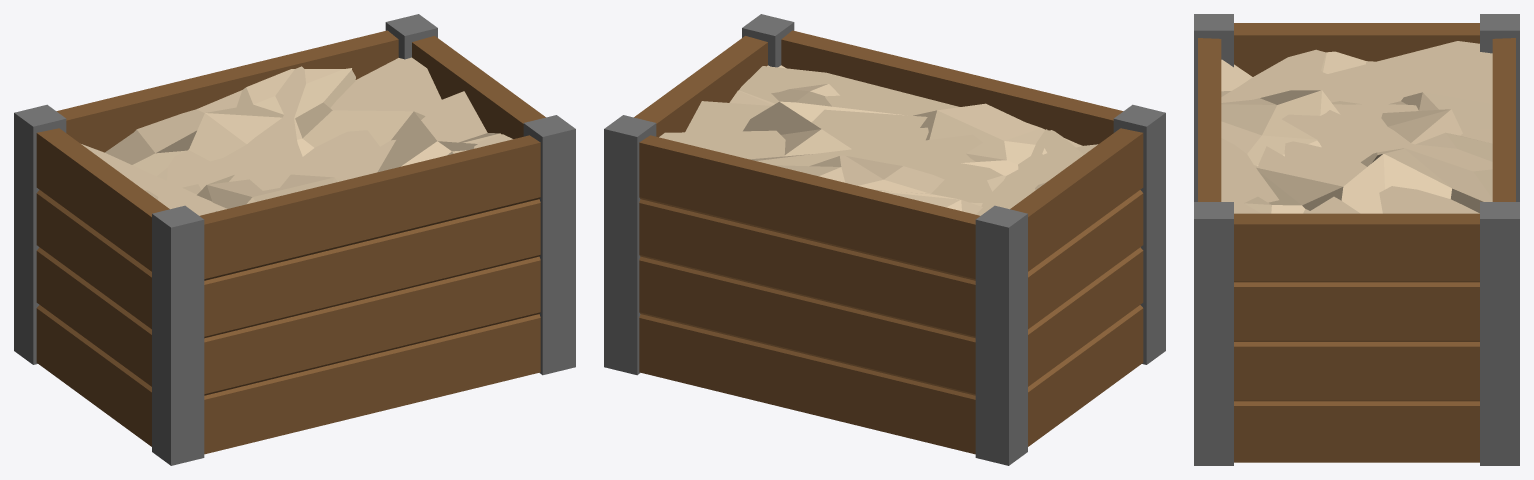
Rendered from CrateParts.fbx.
3 renders of one model, left to right at view 1: azimuth 30°, elevation 25°; view 2: azimuth 150°, elevation 25°; view 3: azimuth 270°, elevation 25°, orthographic. The views are drawn at different scales.
Visible parts, largest first — view 1: Crate, Content; view 2: Crate, Content; view 3: Crate, Content.
Boxes of the visible parts, x1,y1,x2,y2 form: Crate: (14,14,575,465); Content: (81,57,512,215); Crate: (604,14,1165,465); Content: (659,65,1097,215); Crate: (1194,14,1519,465); Content: (1221,41,1492,213).
Size of the model in its own units: 45.75 by 25.74 by 30.75.
